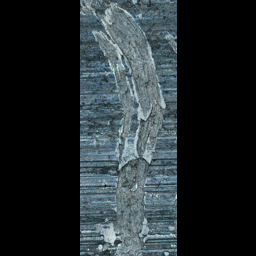d: (109, 41, 167, 144), (111, 127, 161, 208), (82, 1, 145, 61), (88, 209, 155, 256), (160, 223, 176, 256)
